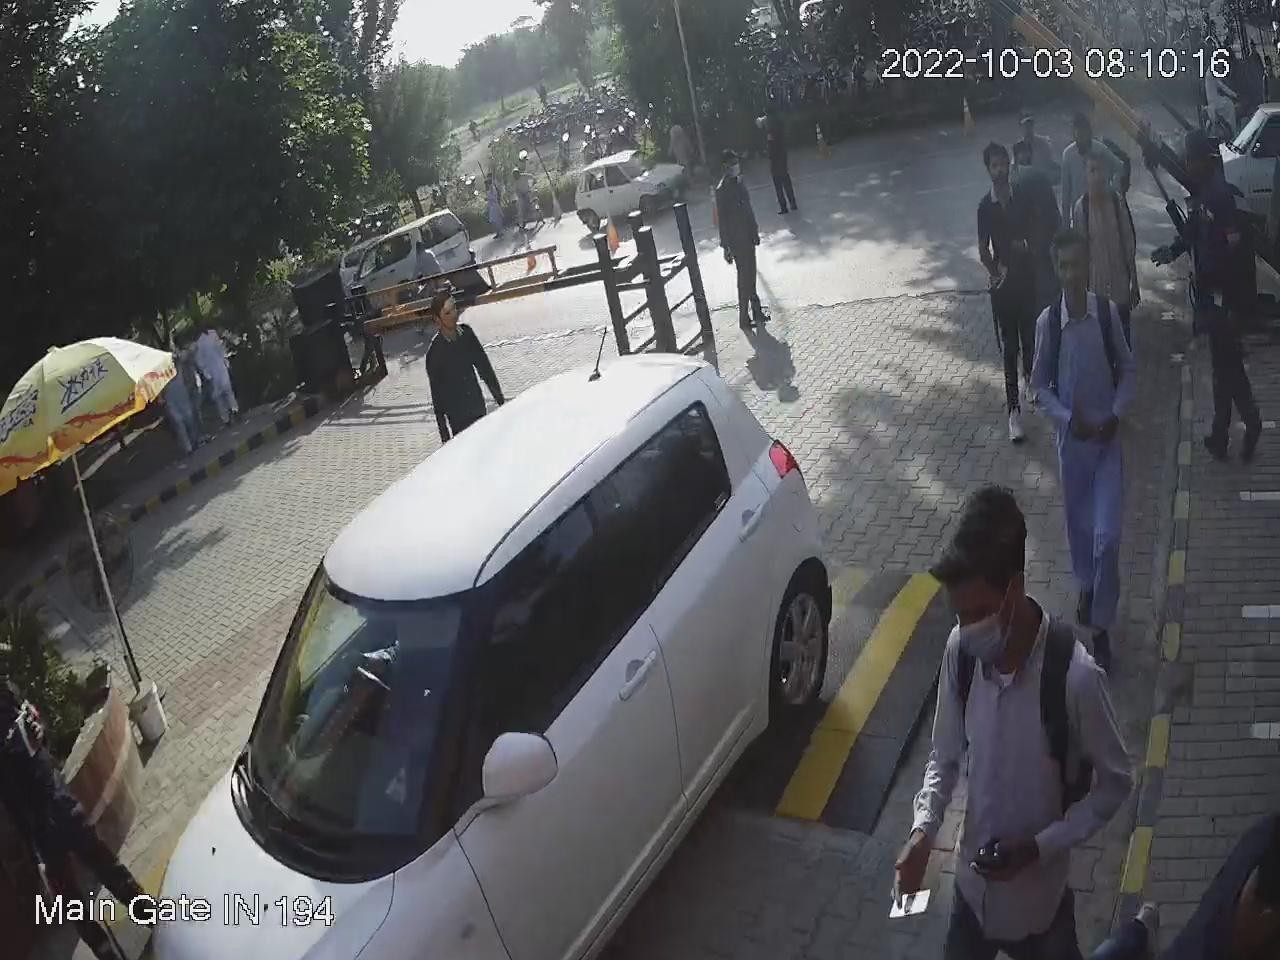windshield: (228, 563, 471, 875)
